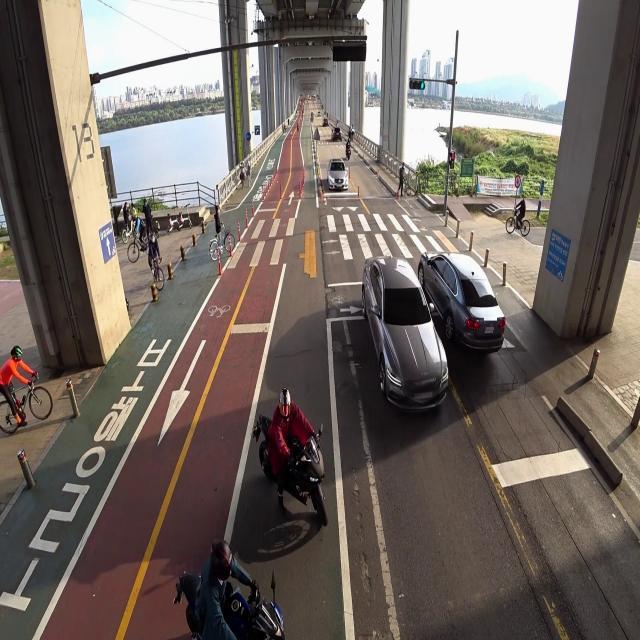Car: (353, 253, 449, 419), (416, 237, 506, 360), (328, 154, 351, 199), (330, 120, 341, 144)
Motorcycle: (170, 541, 292, 640), (253, 384, 329, 528), (344, 137, 352, 164)
